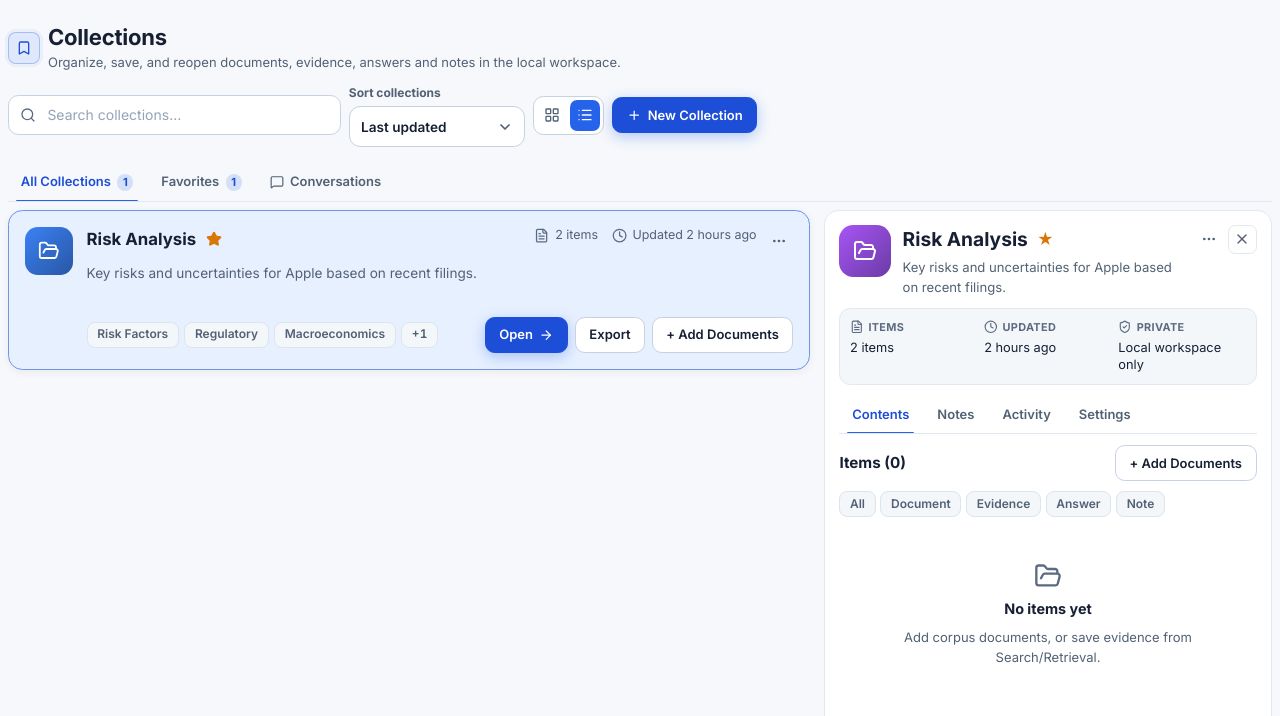
CollectionsWorkspace › the detail menu confirms once with the captured identity and revision
This screenshot has width=1280, height=716.
What coordinates should you click on to do the following:
click the button named "Collection actions"
I would click on:
 (1209, 240)
Its box is 1195,225 -> 1224,254.
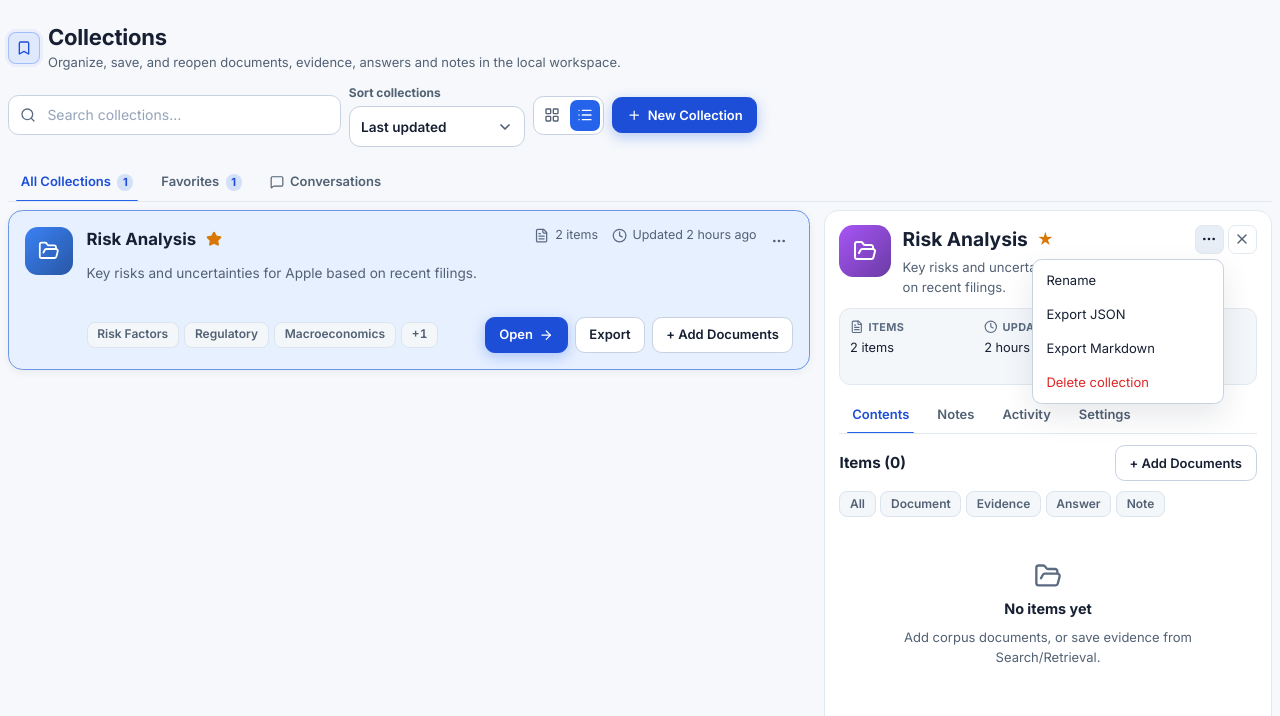
What coordinates should you click on to do the following:
click the menu item "Delete collection"
I would click on:
 (1128, 382)
Its box is 1037,365 -> 1219,399.
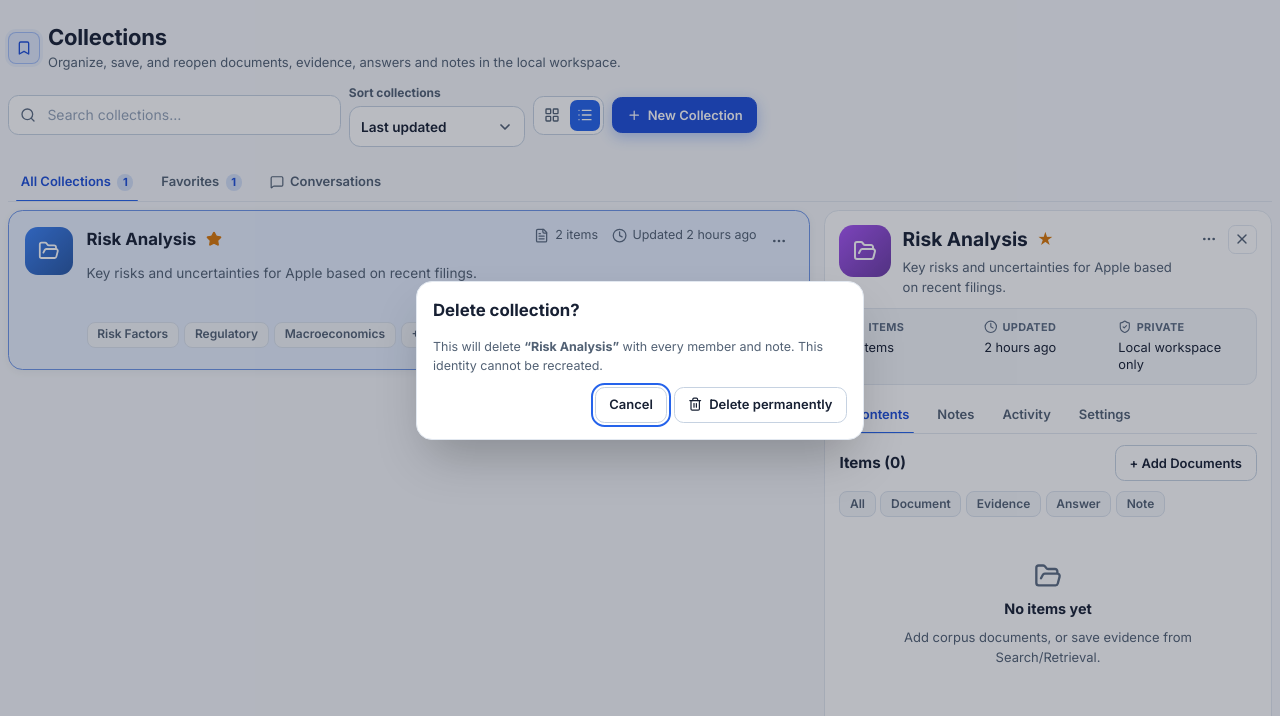
What coordinates should you click on to do the following:
click the button "Delete permanently"
I would click on:
 (760, 404)
Its box is 674,386 -> 847,422.
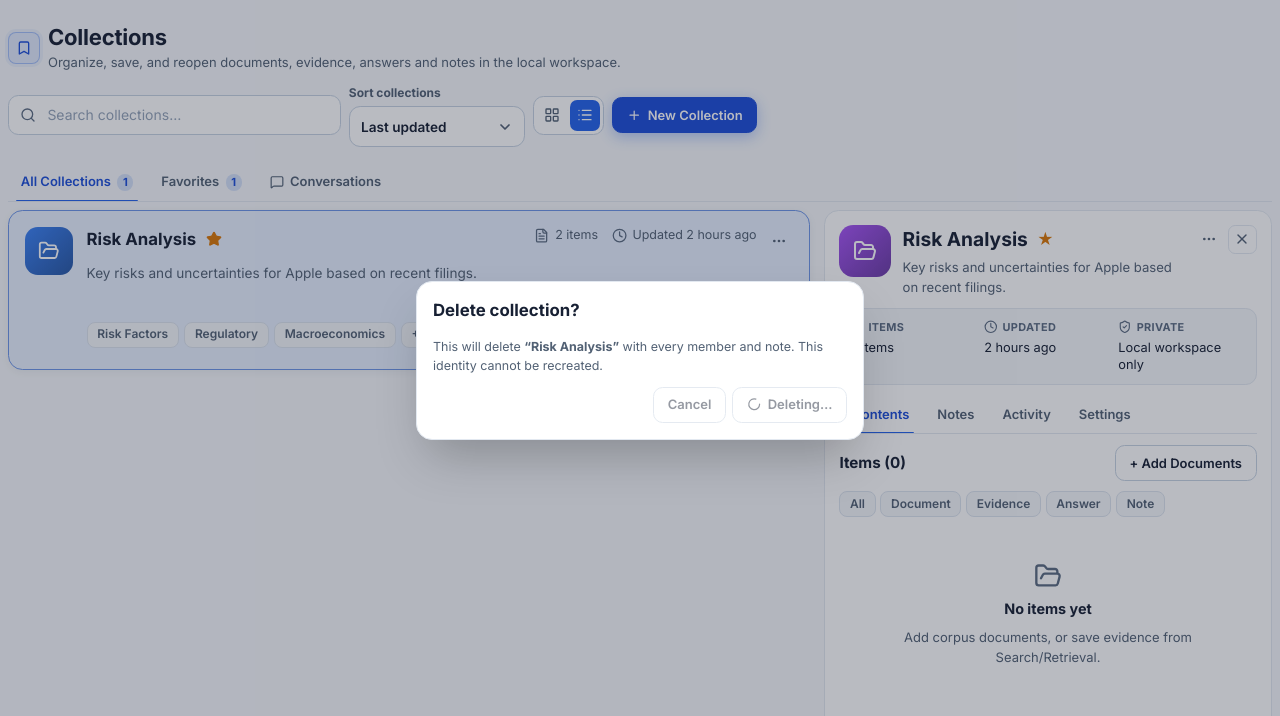
What coordinates should you click on to do the following:
click the button named "Delete permanently"
I would click on:
 (790, 404)
Its box is 732,386 -> 847,422.
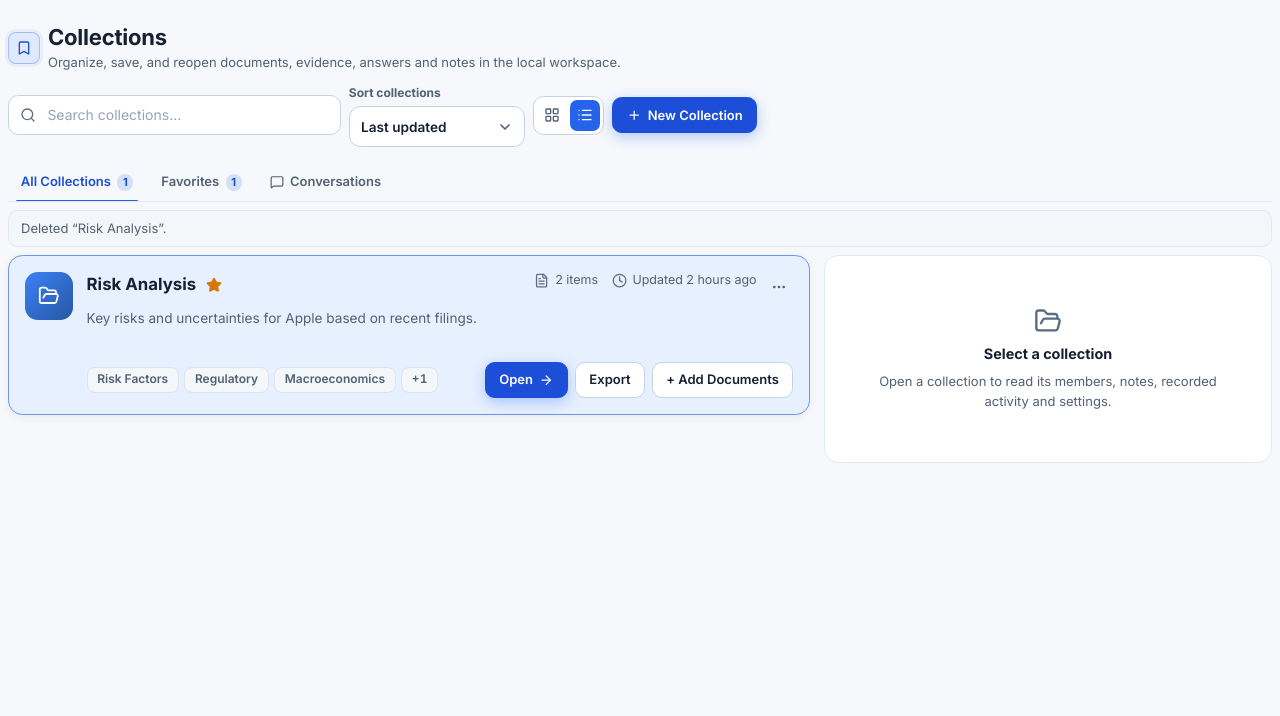
expect the heading "Delete collection?" is gone: met
